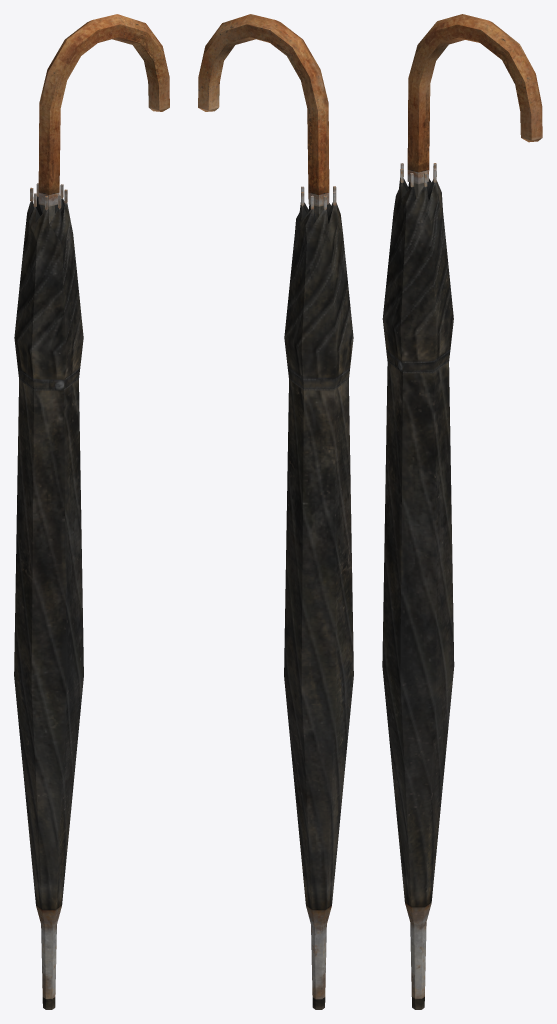
The model's file is umbrella.glb.
3 renders of one model, left to right at view 1: azimuth 30°, elevation 25°; view 2: azimuth 150°, elevation 25°; view 3: azimuth 330°, elevation 25°, orthographic. The views are drawn at different scales.
Visible parts, largest first — view 1: umbrella; view 2: umbrella; view 3: umbrella.
Boxes of the visible parts, box(x1,y1,x2,y2) form: umbrella: box(14, 14, 169, 1009); umbrella: box(198, 14, 353, 1009); umbrella: box(382, 14, 542, 1009).
Bounding box in the file's own units: 0.1503 × 0.954 × 0.0618.
Materials: 1 (1 with a texture image).
